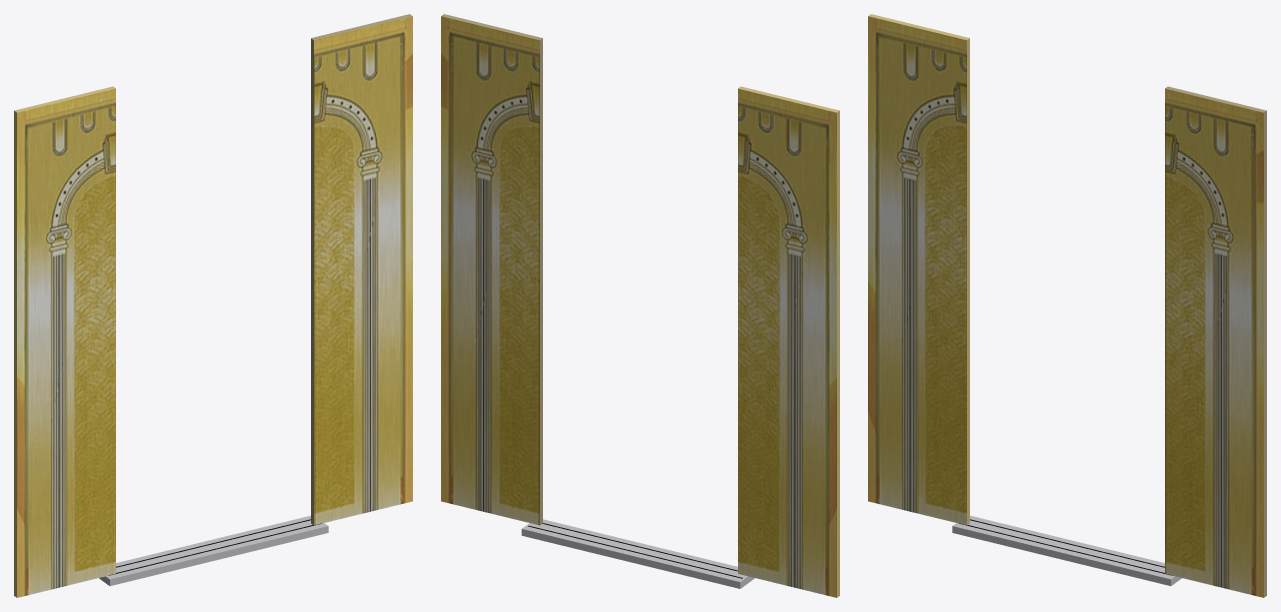
The model's file is cabin_door_TM005.glb.
3 views of the same model, side by side, from view 1: azimuth 30°, elevation 25°; view 2: azimuth 150°, elevation 25°; view 3: azimuth 330°, elevation 25° (orthographic).
Parts seen in each view (by area): view 1: Car_Door_L, Car_Door_R, Door_Sill; view 2: Car_Door_L, Car_Door_R, Door_Sill; view 3: Car_Door_R, Car_Door_L, Door_Sill.
Part boxes in pixels (x1,y1,x2,y2): Car_Door_L: [14, 86, 115, 597]; Car_Door_R: [311, 14, 412, 525]; Door_Sill: [99, 515, 328, 585]; Car_Door_L: [738, 86, 839, 597]; Car_Door_R: [441, 14, 542, 525]; Door_Sill: [521, 519, 754, 588]; Car_Door_R: [1165, 86, 1266, 597]; Car_Door_L: [868, 14, 969, 525]; Door_Sill: [952, 515, 1181, 585].
Bounding box in the file's own units: 1.81 × 2.15 × 0.12.
Materials: 3 (1 with a texture image).
